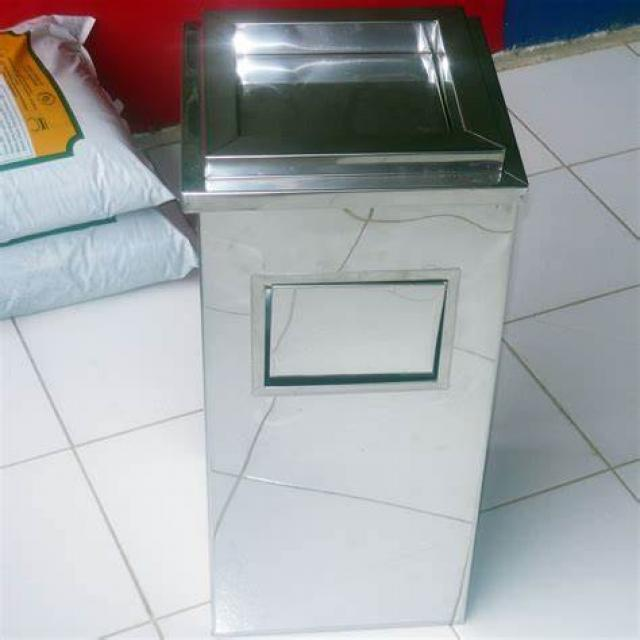garbage container: (163, 1, 522, 637)
